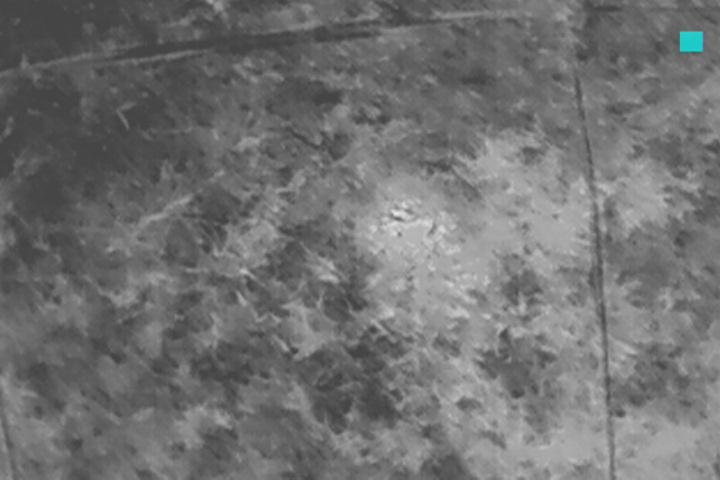landmine: (380, 198, 461, 267)
